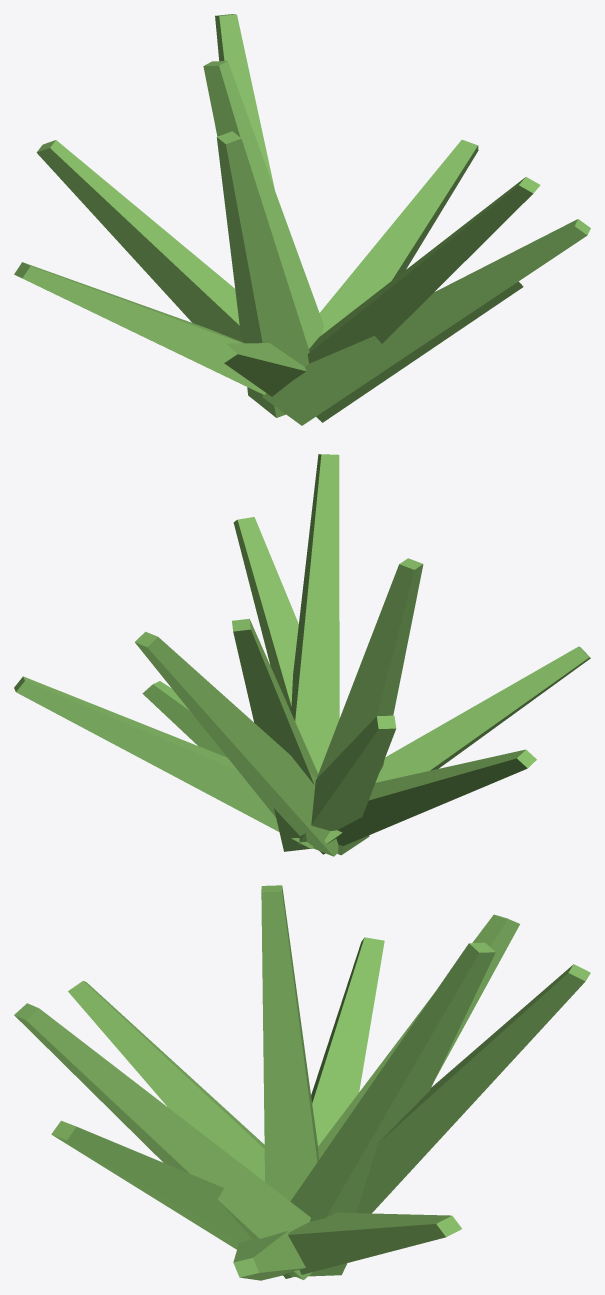
3 views of the same model, one above another, from view 1: azimuth 30°, elevation 25°; view 2: azimuth 150°, elevation 25°; view 3: azimuth 270°, elevation 25° (orthographic). The views are drawn at different scales.
Visible parts, largest first — view 1: Grass 1; view 2: Grass 1; view 3: Grass 1.
Boxes of the visible parts, x1,y1,x2,y2 form: Grass 1: (14,14,590,425); Grass 1: (14,454,590,856); Grass 1: (14,885,590,1280).
Bounding box in the file's own units: 0.3287 × 0.1938 × 0.2942.
